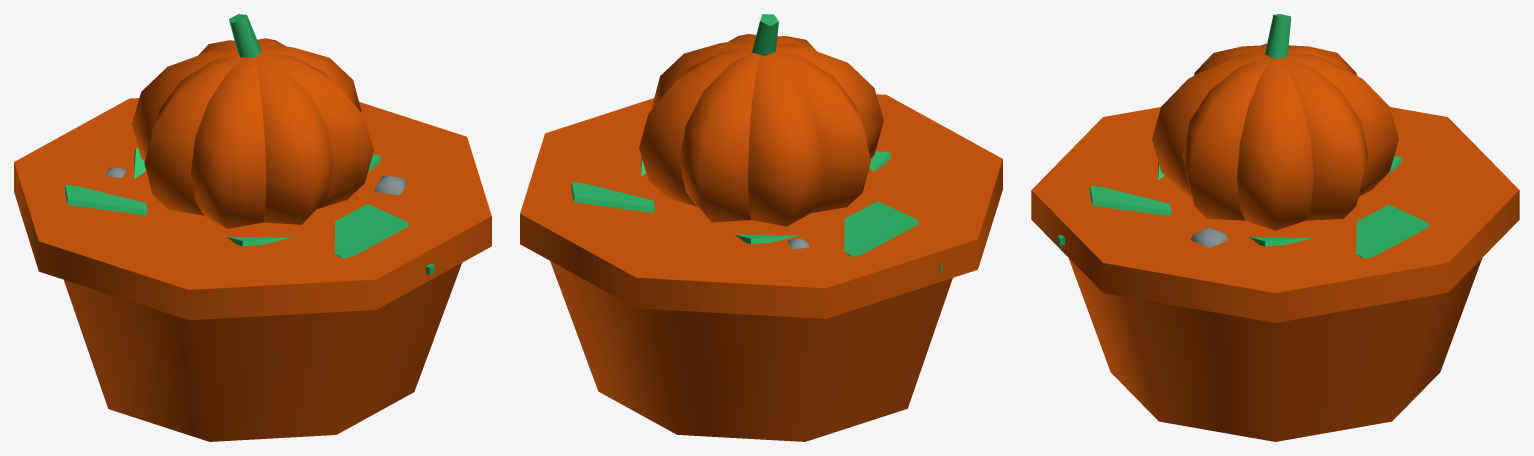
Rendered from pumpkin.glb.
The picture shows the model from 3 angles, left to right: view 1: azimuth 30°, elevation 25°; view 2: azimuth 150°, elevation 25°; view 3: azimuth 270°, elevation 25°; orthographic projection. The views are drawn at different scales.
Parts seen in each view (by area): view 1: rim, pot, pumpkin_fruit, pumpkin_leaf_0_1, pumpkin_leaf_2_1, pebble_1; view 2: rim, pot, pumpkin_fruit, pumpkin_leaf_2_1, pumpkin_leaf_1_1; view 3: rim, pot, pumpkin_fruit, pumpkin_leaf_1_1, pumpkin_leaf_0_1, pebble_1.
Part boxes in pixels (x1,y1,x2,y2): rim: (14, 98, 491, 320); pot: (64, 263, 461, 441); pumpkin_fruit: (132, 14, 373, 228); pumpkin_leaf_0_1: (334, 204, 408, 258); pumpkin_leaf_2_1: (65, 184, 147, 215); pebble_1: (374, 176, 406, 194); rim: (520, 94, 1002, 318); pot: (550, 261, 952, 441); pumpkin_fruit: (639, 14, 883, 226); pumpkin_leaf_2_1: (844, 201, 918, 256); pumpkin_leaf_1_1: (571, 182, 654, 213); rim: (1031, 107, 1519, 322); pot: (1068, 258, 1482, 441); pumpkin_fruit: (1152, 14, 1398, 230); pumpkin_leaf_1_1: (1356, 204, 1429, 258); pumpkin_leaf_0_1: (1090, 185, 1171, 216); pebble_1: (1191, 227, 1228, 247).
Size of the model in its own units: 0.74 by 0.5908 by 0.74.
